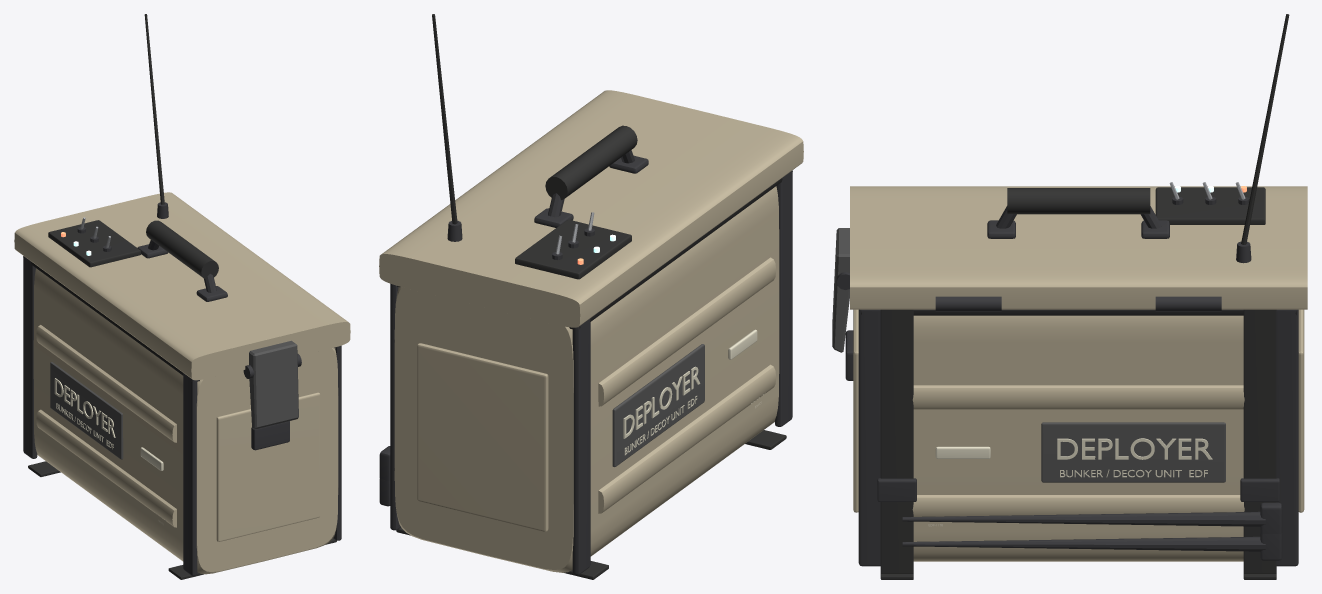
Rendered from deployer.glb.
The picture shows the model from 3 angles, left to right: view 1: azimuth 30°, elevation 25°; view 2: azimuth 150°, elevation 25°; view 3: azimuth 270°, elevation 25°; orthographic projection. The views are drawn at different scales.
Parts seen in each view (by area): view 1: Body; view 2: Body; view 3: Body.
Part boxes in pixels (<box>): Body: <box>14,14,350,579</box>; Body: <box>379,14,803,579</box>; Body: <box>832,14,1307,579</box>.
Bounding box in the file's own units: 0.2307 × 0.5463 × 0.4319.
